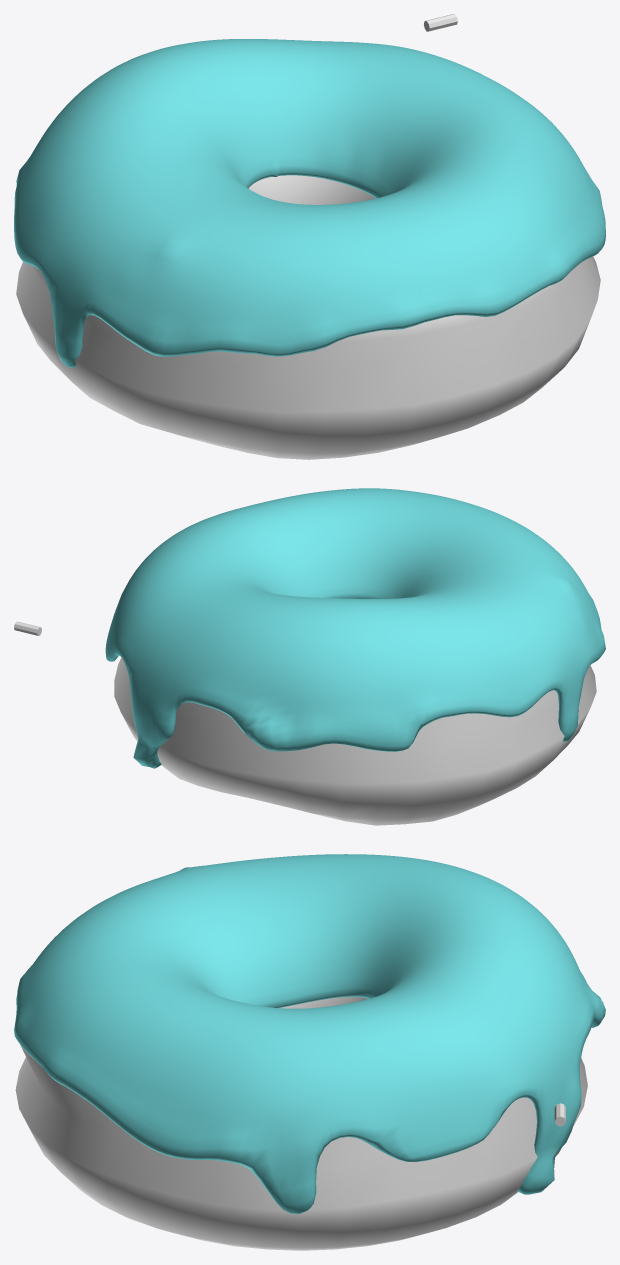
File: donut.glb
The picture shows the model from 3 angles, top to bottom: view 1: azimuth 30°, elevation 25°; view 2: azimuth 150°, elevation 25°; view 3: azimuth 270°, elevation 25°; orthographic projection. The views are drawn at different scales.
Parts seen in each view (by area): view 1: Frosting, Doughnut; view 2: Frosting, Doughnut; view 3: Frosting, Doughnut.
Part boxes in pixels (box(x1,y1,x2,y2)): Frosting: box(14, 39, 605, 368); Doughnut: box(16, 175, 600, 459); Frosting: box(105, 488, 605, 768); Doughnut: box(114, 657, 596, 825); Frosting: box(14, 854, 605, 1213); Doughnut: box(15, 997, 587, 1250).
Size of the model in its own units: 0.1035 by 0.0483 by 0.1017.
